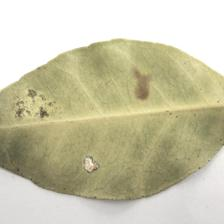black spot: (4, 70, 160, 182)
